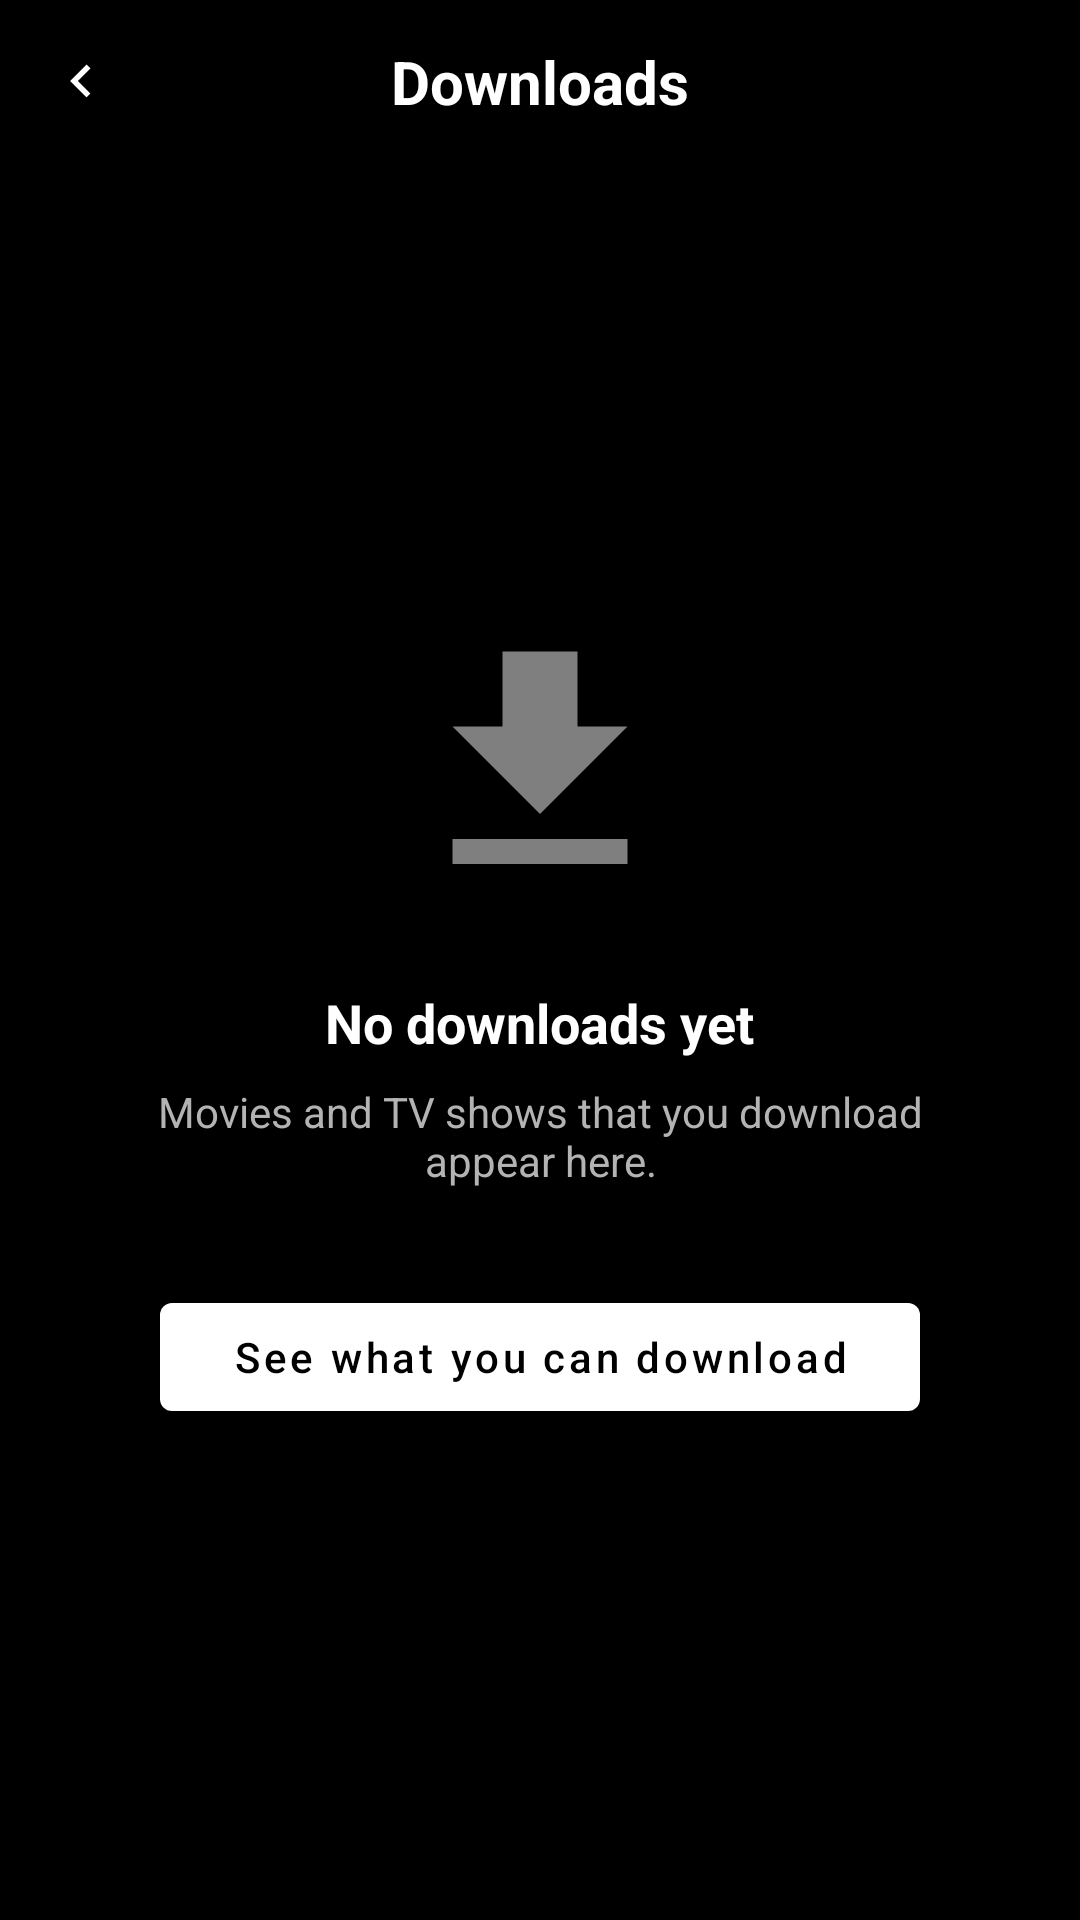

Screen size 1080×1920. Icon name, then its box in pixels as (x1, y1, x2, y2):
back: (70, 64, 91, 98)
